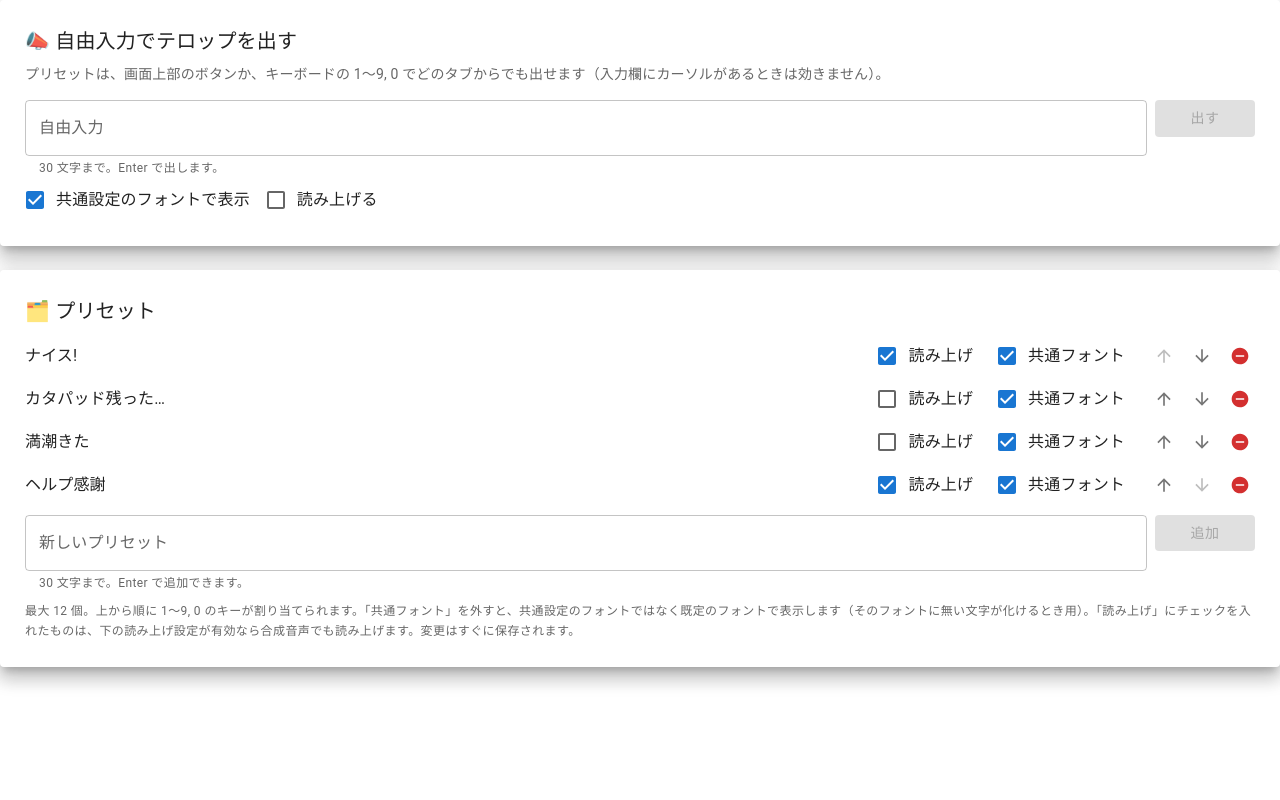
TelopPanel › keeps the free text when showing it fails
Expected: the heading "📣 自由入力でテロップを出す" is shown, [25,29,297,53]
Type "ありがとう" into the field labelled "自由入力" at [586, 128], box [25,100,1147,156]
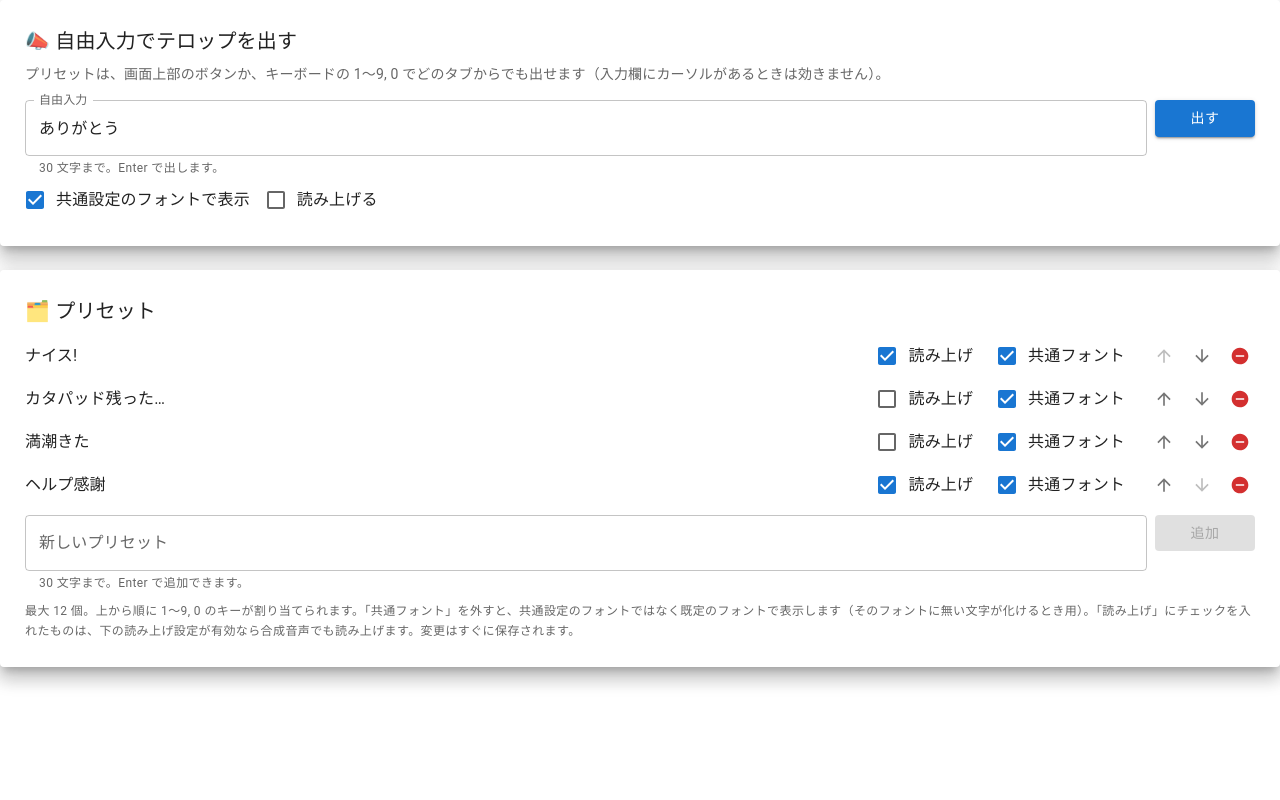
Click the button "出す" at [1205, 118], box [1155,100,1255,136]
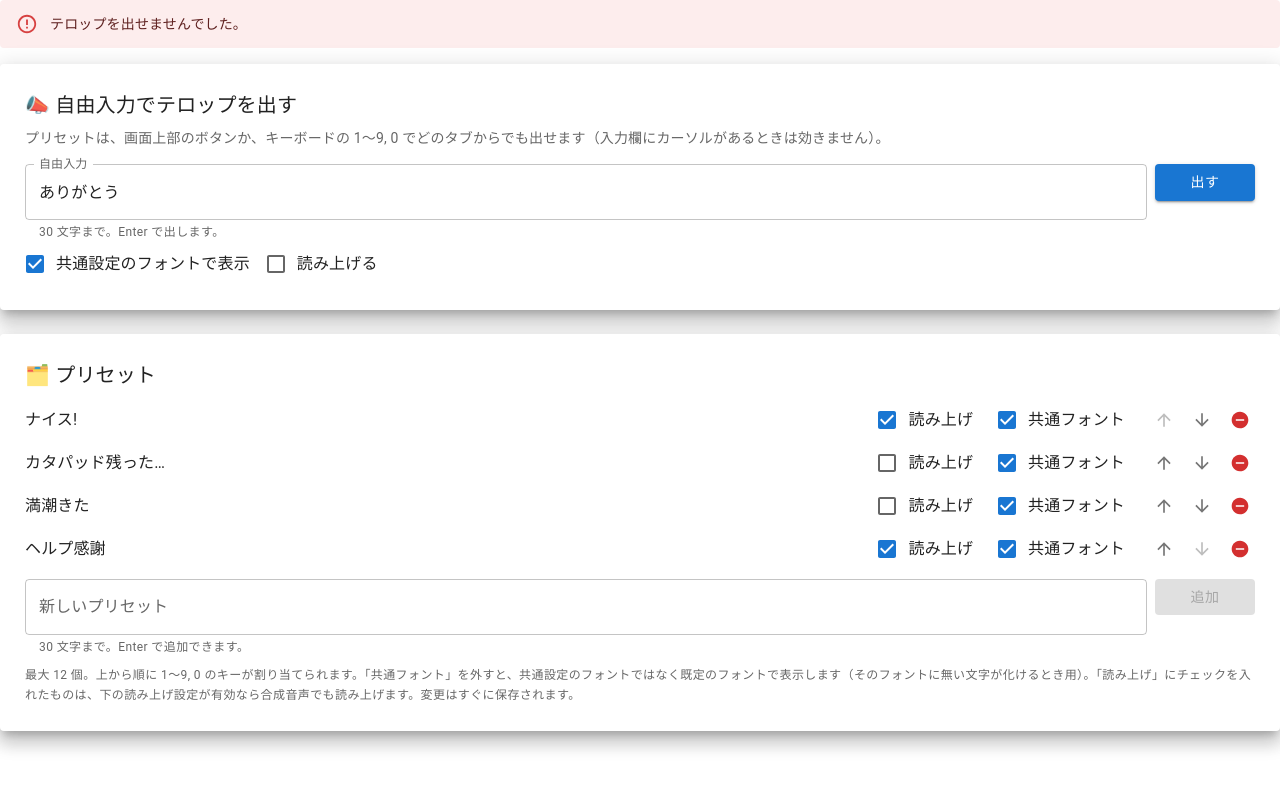
Expected: the text "テロップを出せませんでした。" is shown, [50,16,247,32]
